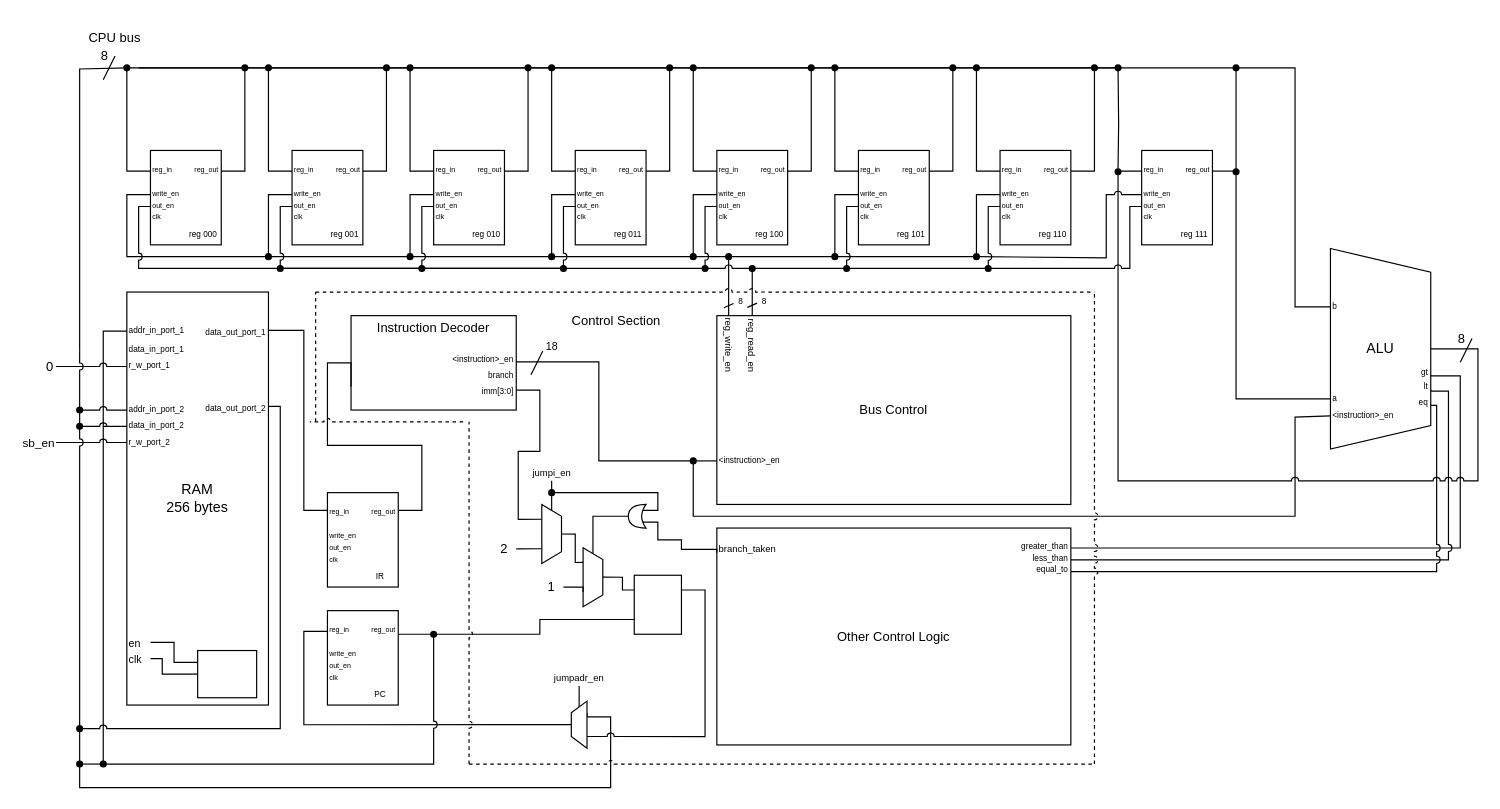
This 1500x809 diagram has some shape labels left out. The centre of each missing label's shape, as x and y in pixels:
adder: the point at 657,604
clk gate: the point at 226,673
